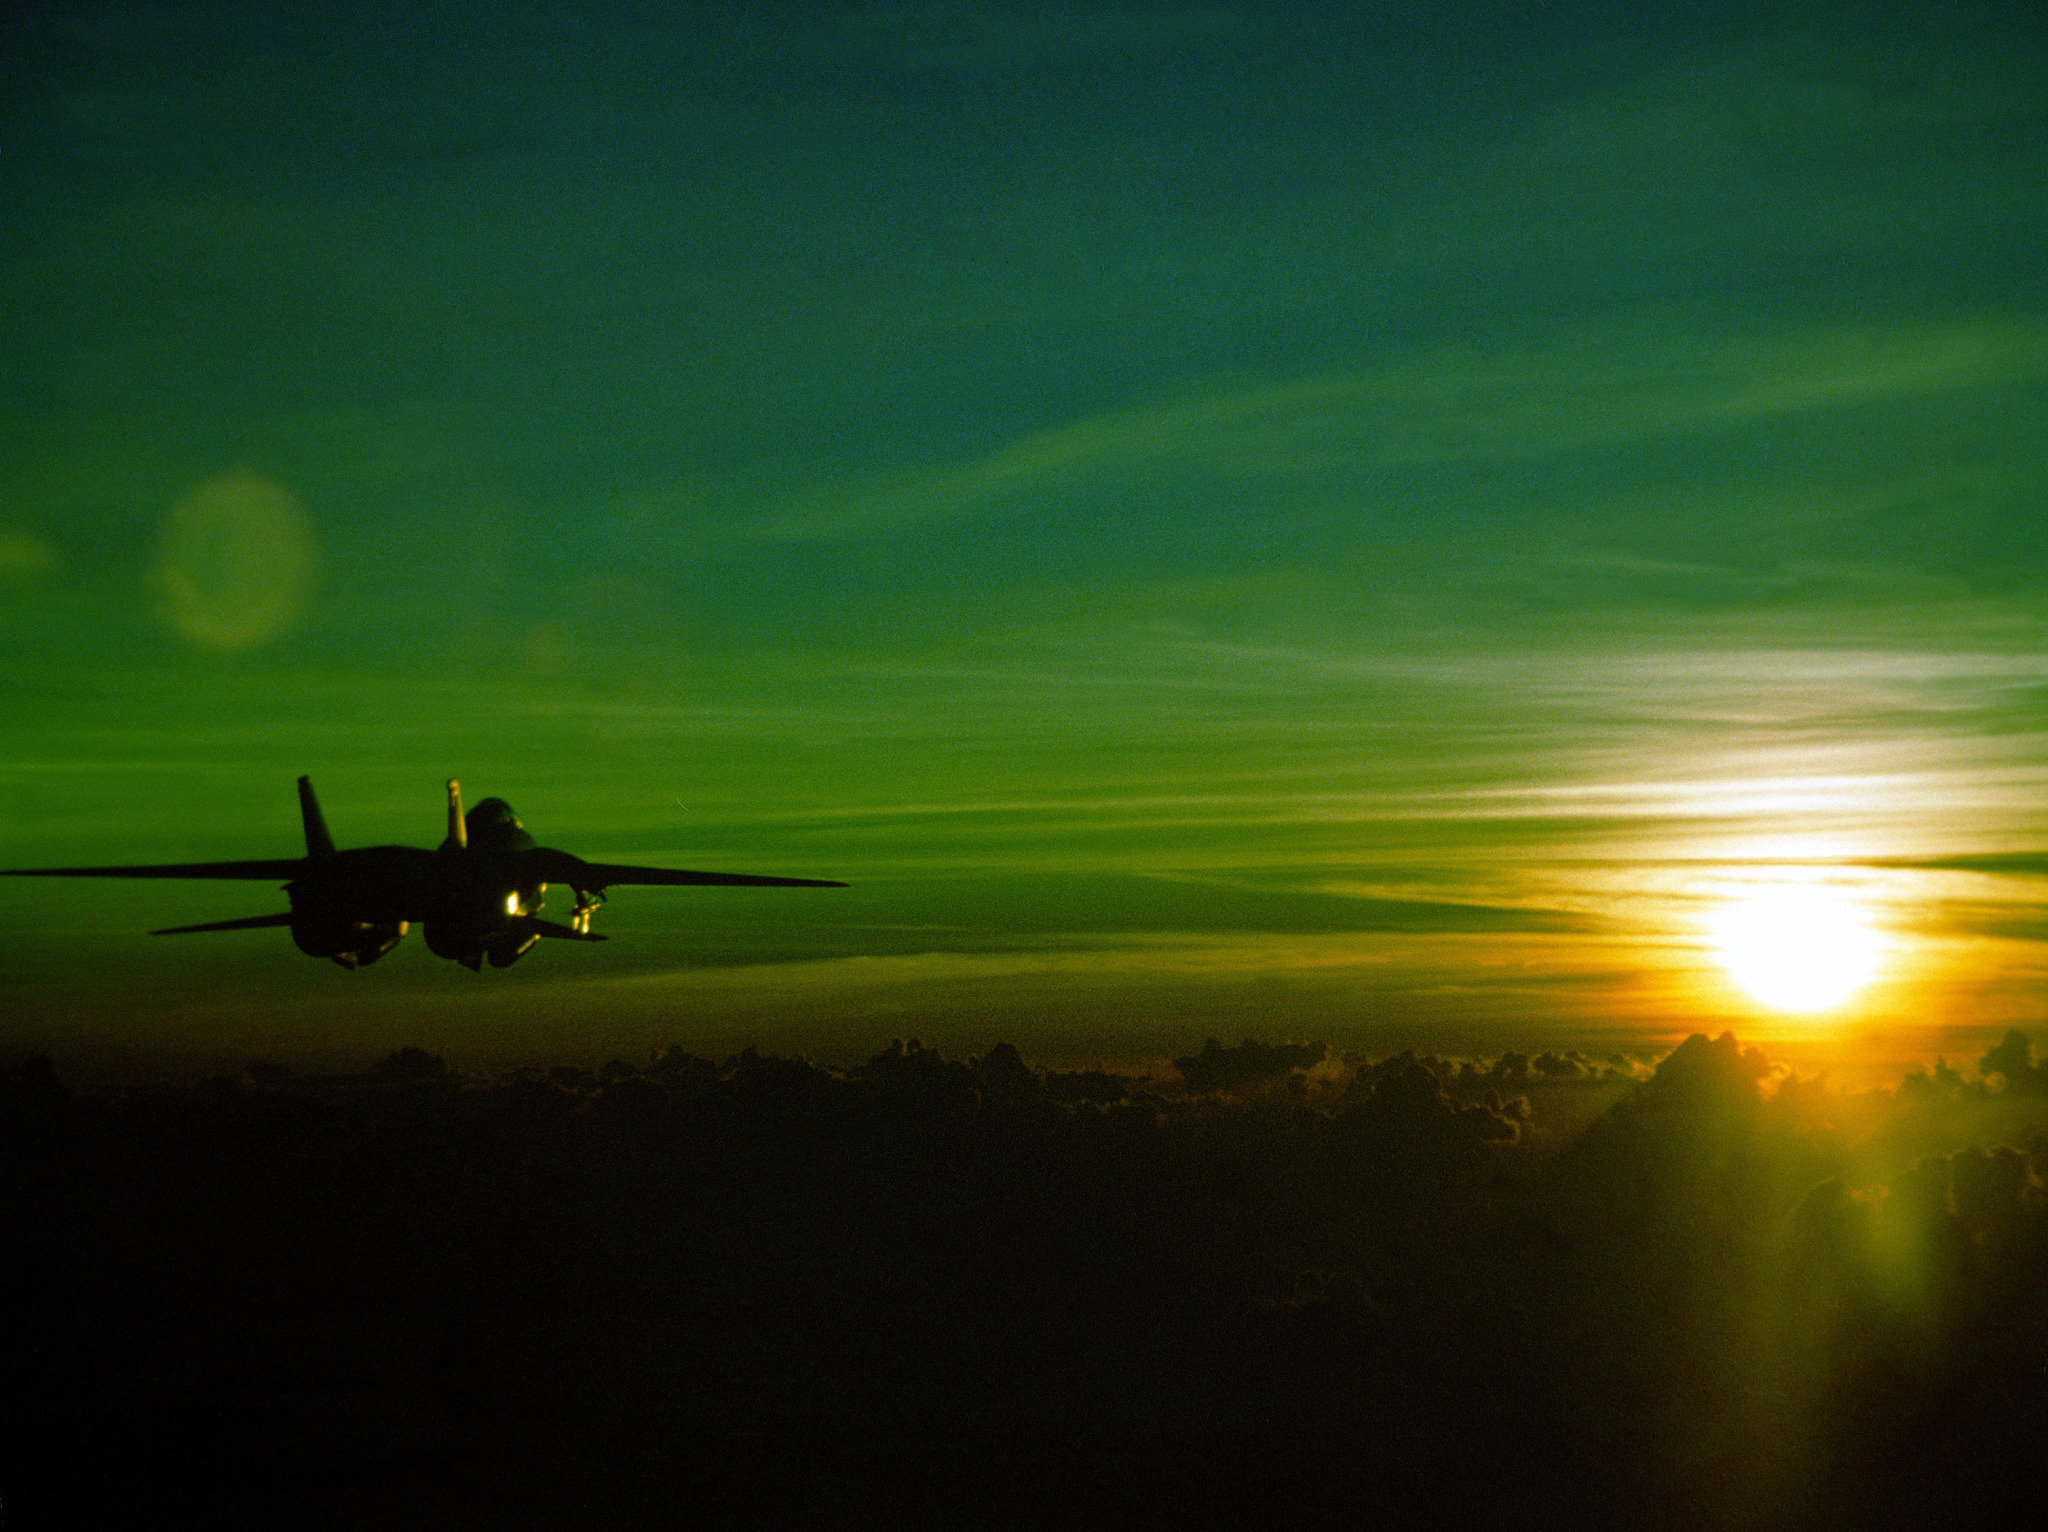F14: (2, 772, 853, 972)
